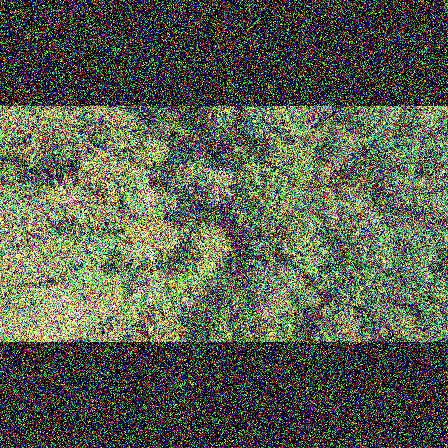Dead: (130, 284, 161, 312)
